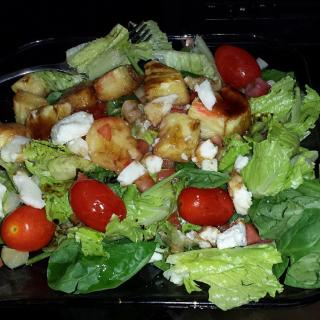tomato: (68, 175, 127, 237), (0, 201, 56, 252), (213, 48, 262, 98), (178, 184, 235, 226)
